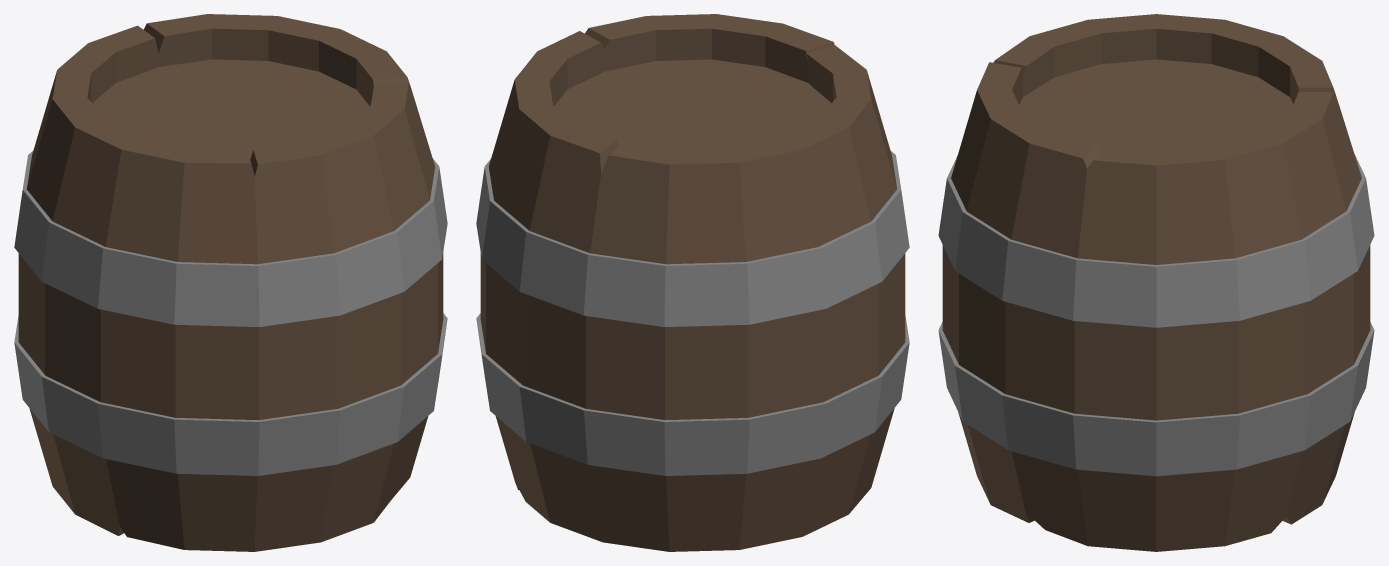
Rendered from Barrel.fbx.
The picture shows the model from 3 angles, left to right: view 1: azimuth 30°, elevation 25°; view 2: azimuth 150°, elevation 25°; view 3: azimuth 270°, elevation 25°; orthographic projection.
Parts seen in each view (by area): view 1: Cylinder.001, Cylinder.002; view 2: Cylinder.001, Cylinder.002; view 3: Cylinder.001, Cylinder.002.
Part boxes in pixels (x1,y1,x2,y2): Cylinder.001: (18,14,443,551); Cylinder.002: (14,151,447,475); Cylinder.001: (480,14,905,551); Cylinder.002: (476,151,909,475); Cylinder.001: (942,14,1370,551); Cylinder.002: (938,154,1374,476).
Size of the model in its own units: 243 by 238 by 243.
